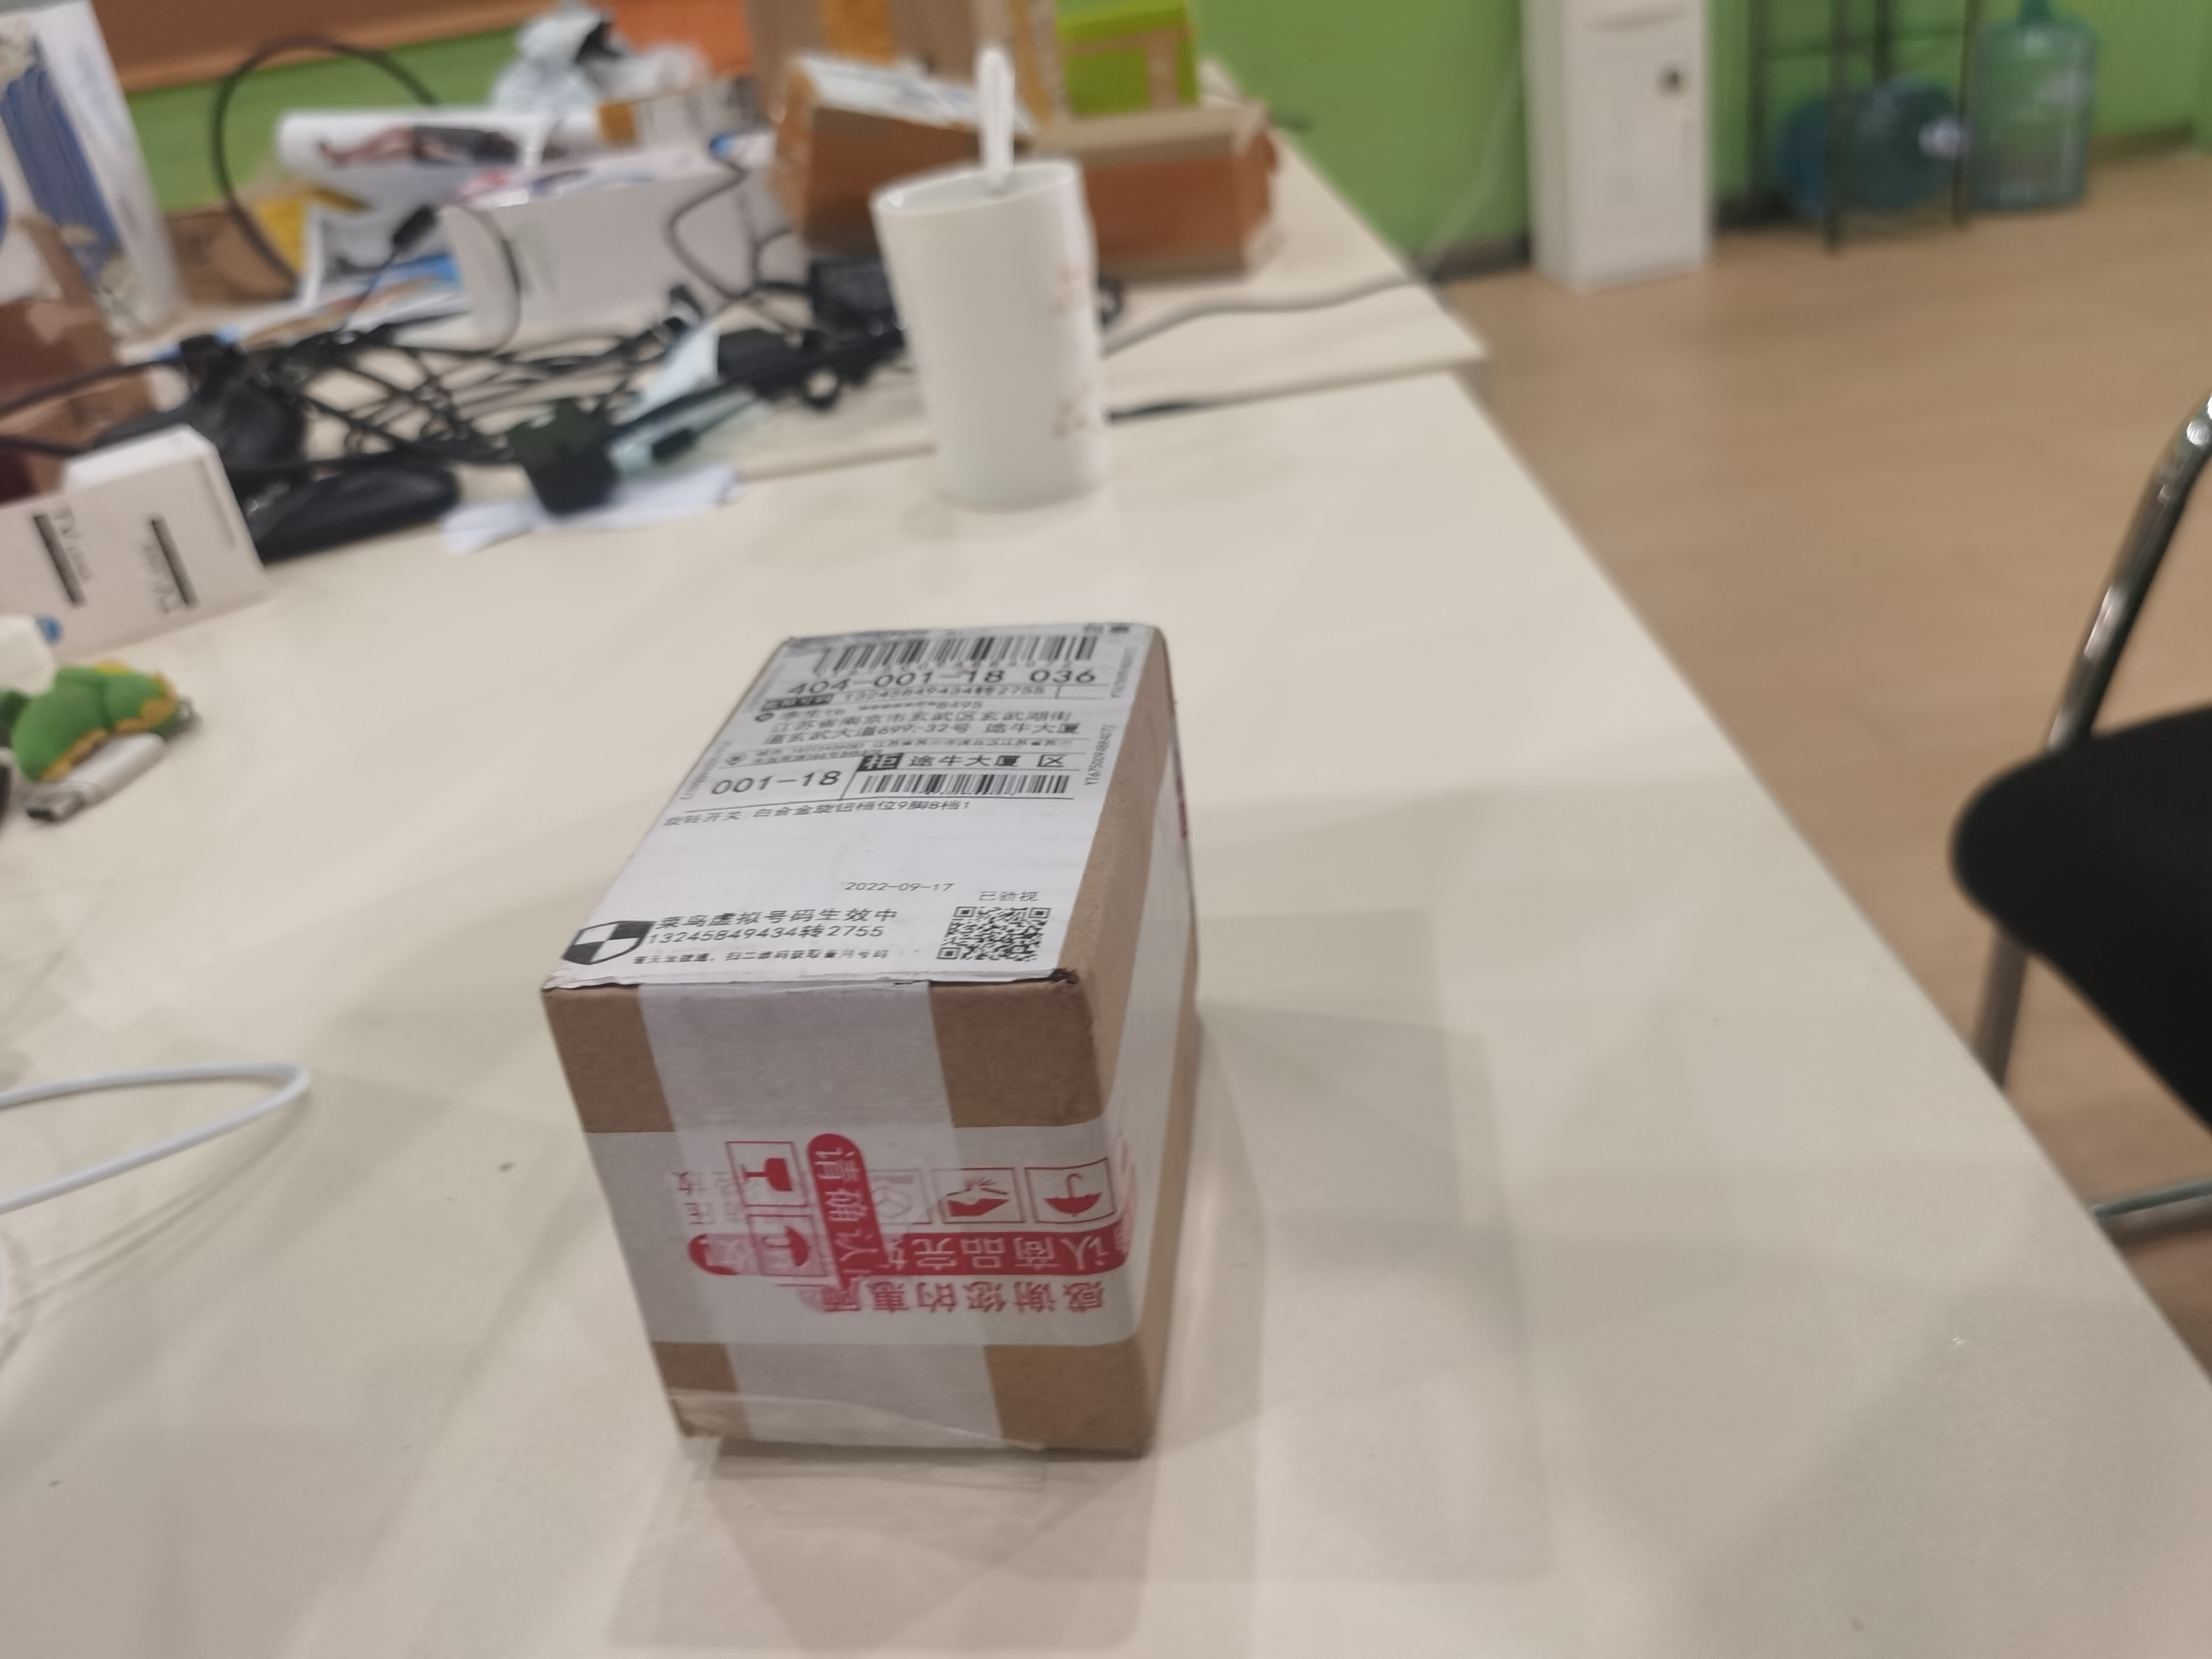box: (535, 610, 1205, 1471)
